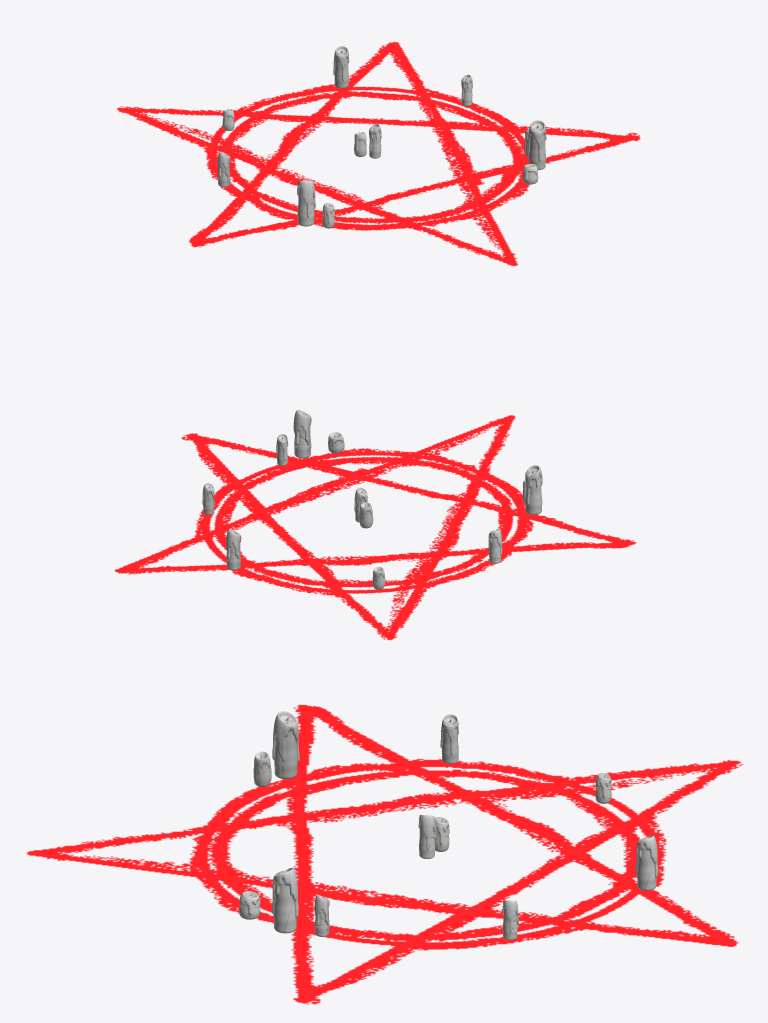
File: velas.glb
3 renders of one model, top to bottom at view 1: azimuth 30°, elevation 25°; view 2: azimuth 150°, elevation 25°; view 3: azimuth 270°, elevation 25°, orthographic. The views are drawn at different scales.
Parts seen in each view (by area): view 1: Cylinder; view 2: Cylinder; view 3: Cylinder.
Boxes of the visible parts, x1,y1,x2,y2 form: Cylinder: [117, 42, 640, 265]; Cylinder: [114, 410, 636, 640]; Cylinder: [26, 705, 743, 1004].
Size of the model in its own units: 4 by 0.3729 by 4.
Materials: 2 (2 with a texture image).
